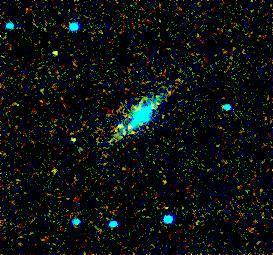star: (102, 114, 132, 144)
